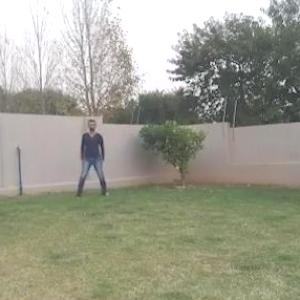follow: (82, 116, 101, 190)
